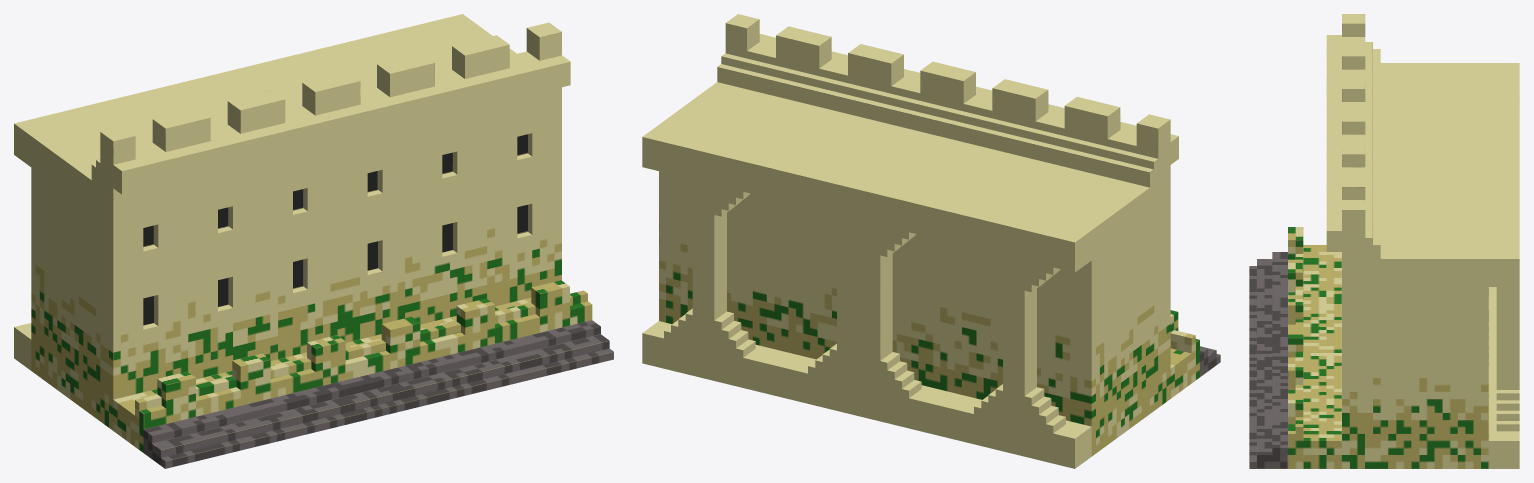
Rendered from Wall_Simple.glb.
3 views of the same model, side by side, from view 1: azimuth 30°, elevation 25°; view 2: azimuth 150°, elevation 25°; view 3: azimuth 270°, elevation 25° (orthographic). The views are drawn at different scales.
Visible parts, largest first — view 1: Wall_Simple; view 2: Wall_Simple; view 3: Wall_Simple.
Boxes of the visible parts, box(x1,y1,x2,y2) form: Wall_Simple: box(14, 14, 613, 468); Wall_Simple: box(642, 14, 1220, 468); Wall_Simple: box(1249, 14, 1519, 468).
Size of the model in its own units: 6 by 3.7 by 3.5.
Materials: 1 (1 with a texture image).
